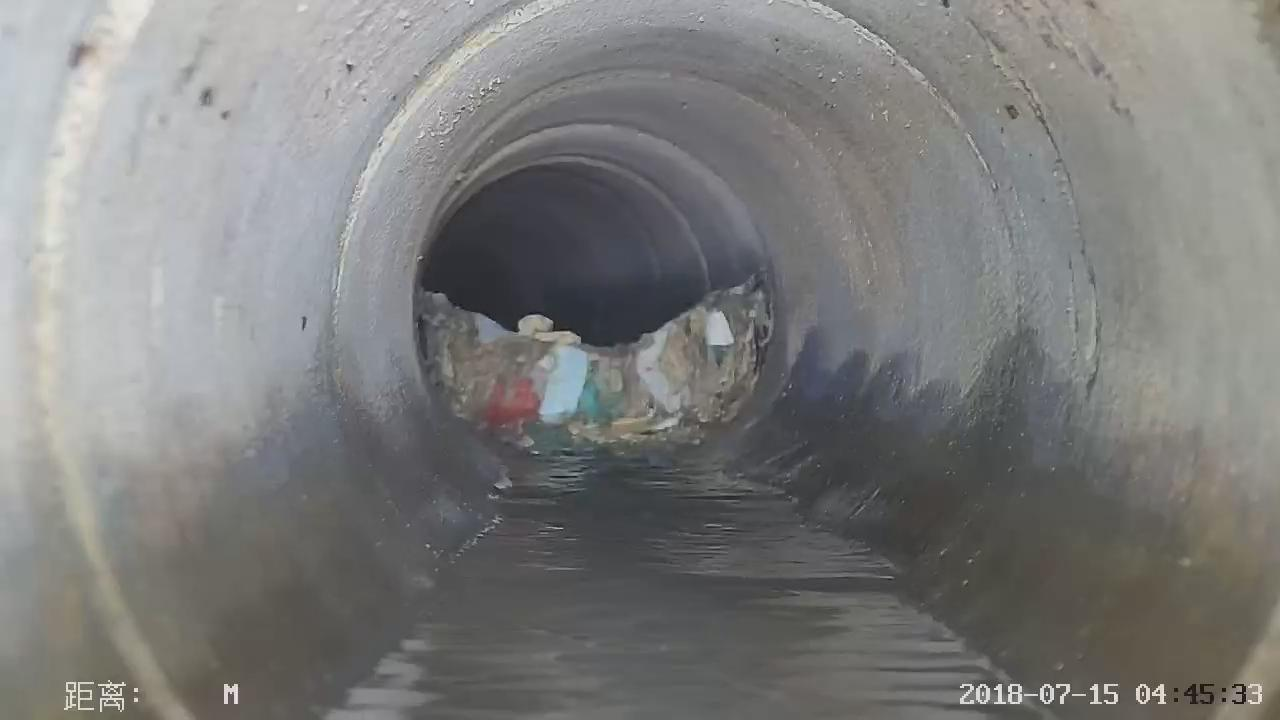ZAW: (416, 280, 772, 450)
